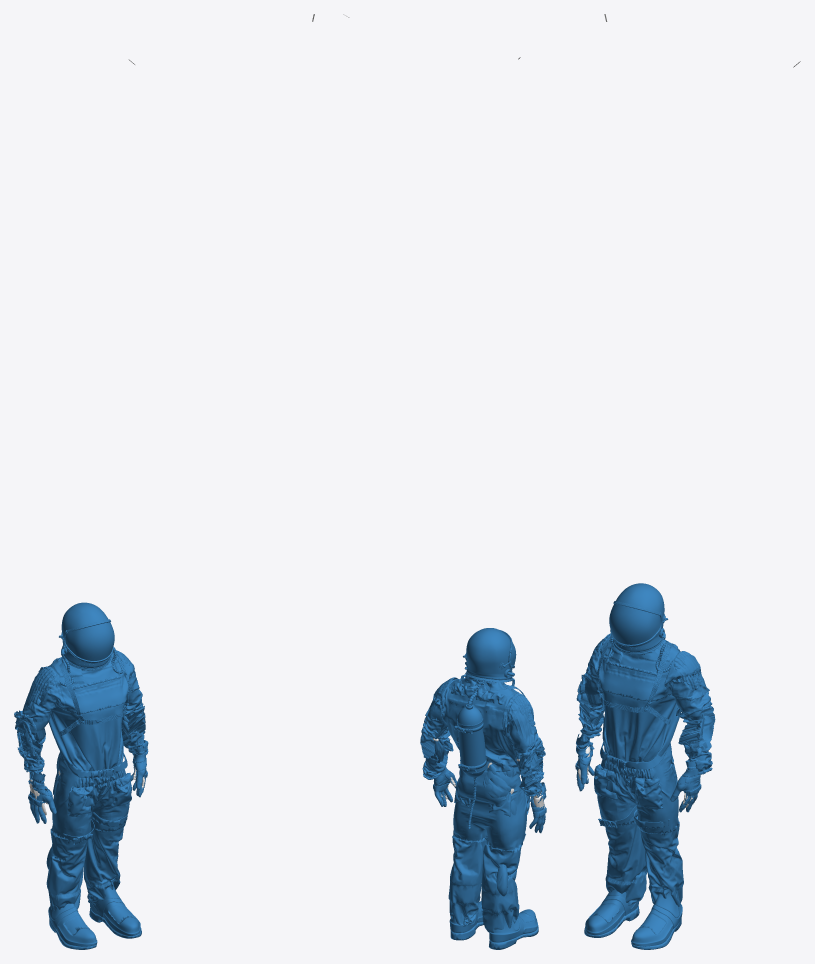
File: astronaut.glb
The picture shows the model from 3 angles, left to right: view 1: azimuth 30°, elevation 25°; view 2: azimuth 150°, elevation 25°; view 3: azimuth 330°, elevation 25°; orthographic projection. The views are drawn at different scales.
Visible parts, largest first — view 1: SUIT_BASE, BOOTS, SUIT_DETAILS, HELMET_GLASS, GLOVES, HELMET_BASE, SUIT_STRAPS; view 2: SUIT_BASE, HELMET_BASE, BOOTS, BOTTLE, SUIT_DETAILS, Object_4, GLOVES; view 3: SUIT_BASE, BOOTS, SUIT_DETAILS, HELMET_GLASS, GLOVES, HELMET_BASE, SUIT_STRAPS, HELMET_METAL_PARTS, SUIT_BELT.
Part boxes in pixels (box(x1,y1,x2,y2)): SUIT_BASE: box(14, 651, 148, 910); BOOTS: box(48, 881, 141, 949); SUIT_DETAILS: box(31, 650, 135, 816); HELMET_GLASS: box(65, 622, 114, 660); GLOVES: box(28, 745, 147, 823); HELMET_BASE: box(61, 602, 110, 667); SUIT_STRAPS: box(59, 653, 130, 735); SUIT_BASE: box(420, 676, 545, 932); HELMET_BASE: box(466, 628, 512, 680); BOOTS: box(449, 901, 538, 949); BOTTLE: box(454, 704, 486, 779); SUIT_DETAILS: box(442, 674, 535, 816); Object_4: box(433, 679, 538, 896); GLOVES: box(433, 762, 546, 833); SUIT_BASE: box(576, 633, 715, 906); BOOTS: box(584, 889, 682, 949); SUIT_DETAILS: box(588, 634, 701, 809); HELMET_GLASS: box(609, 604, 660, 644); GLOVES: box(575, 734, 701, 812); HELMET_BASE: box(613, 583, 664, 651); SUIT_STRAPS: box(597, 639, 670, 724); HELMET_METAL_PARTS: box(610, 601, 668, 654); SUIT_BELT: box(600, 742, 667, 770).
Bounding box in the file's own units: 4211 × 14419 × 1939.
